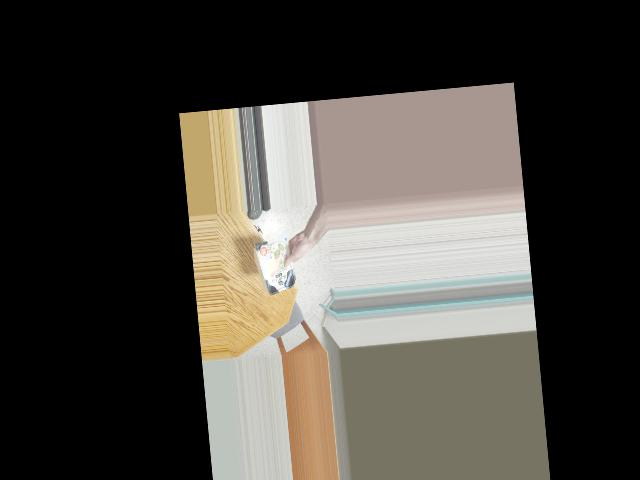cheese: (260, 233, 299, 297)
